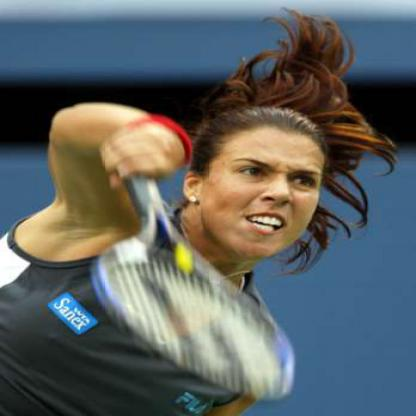face: (202, 110, 333, 258)
